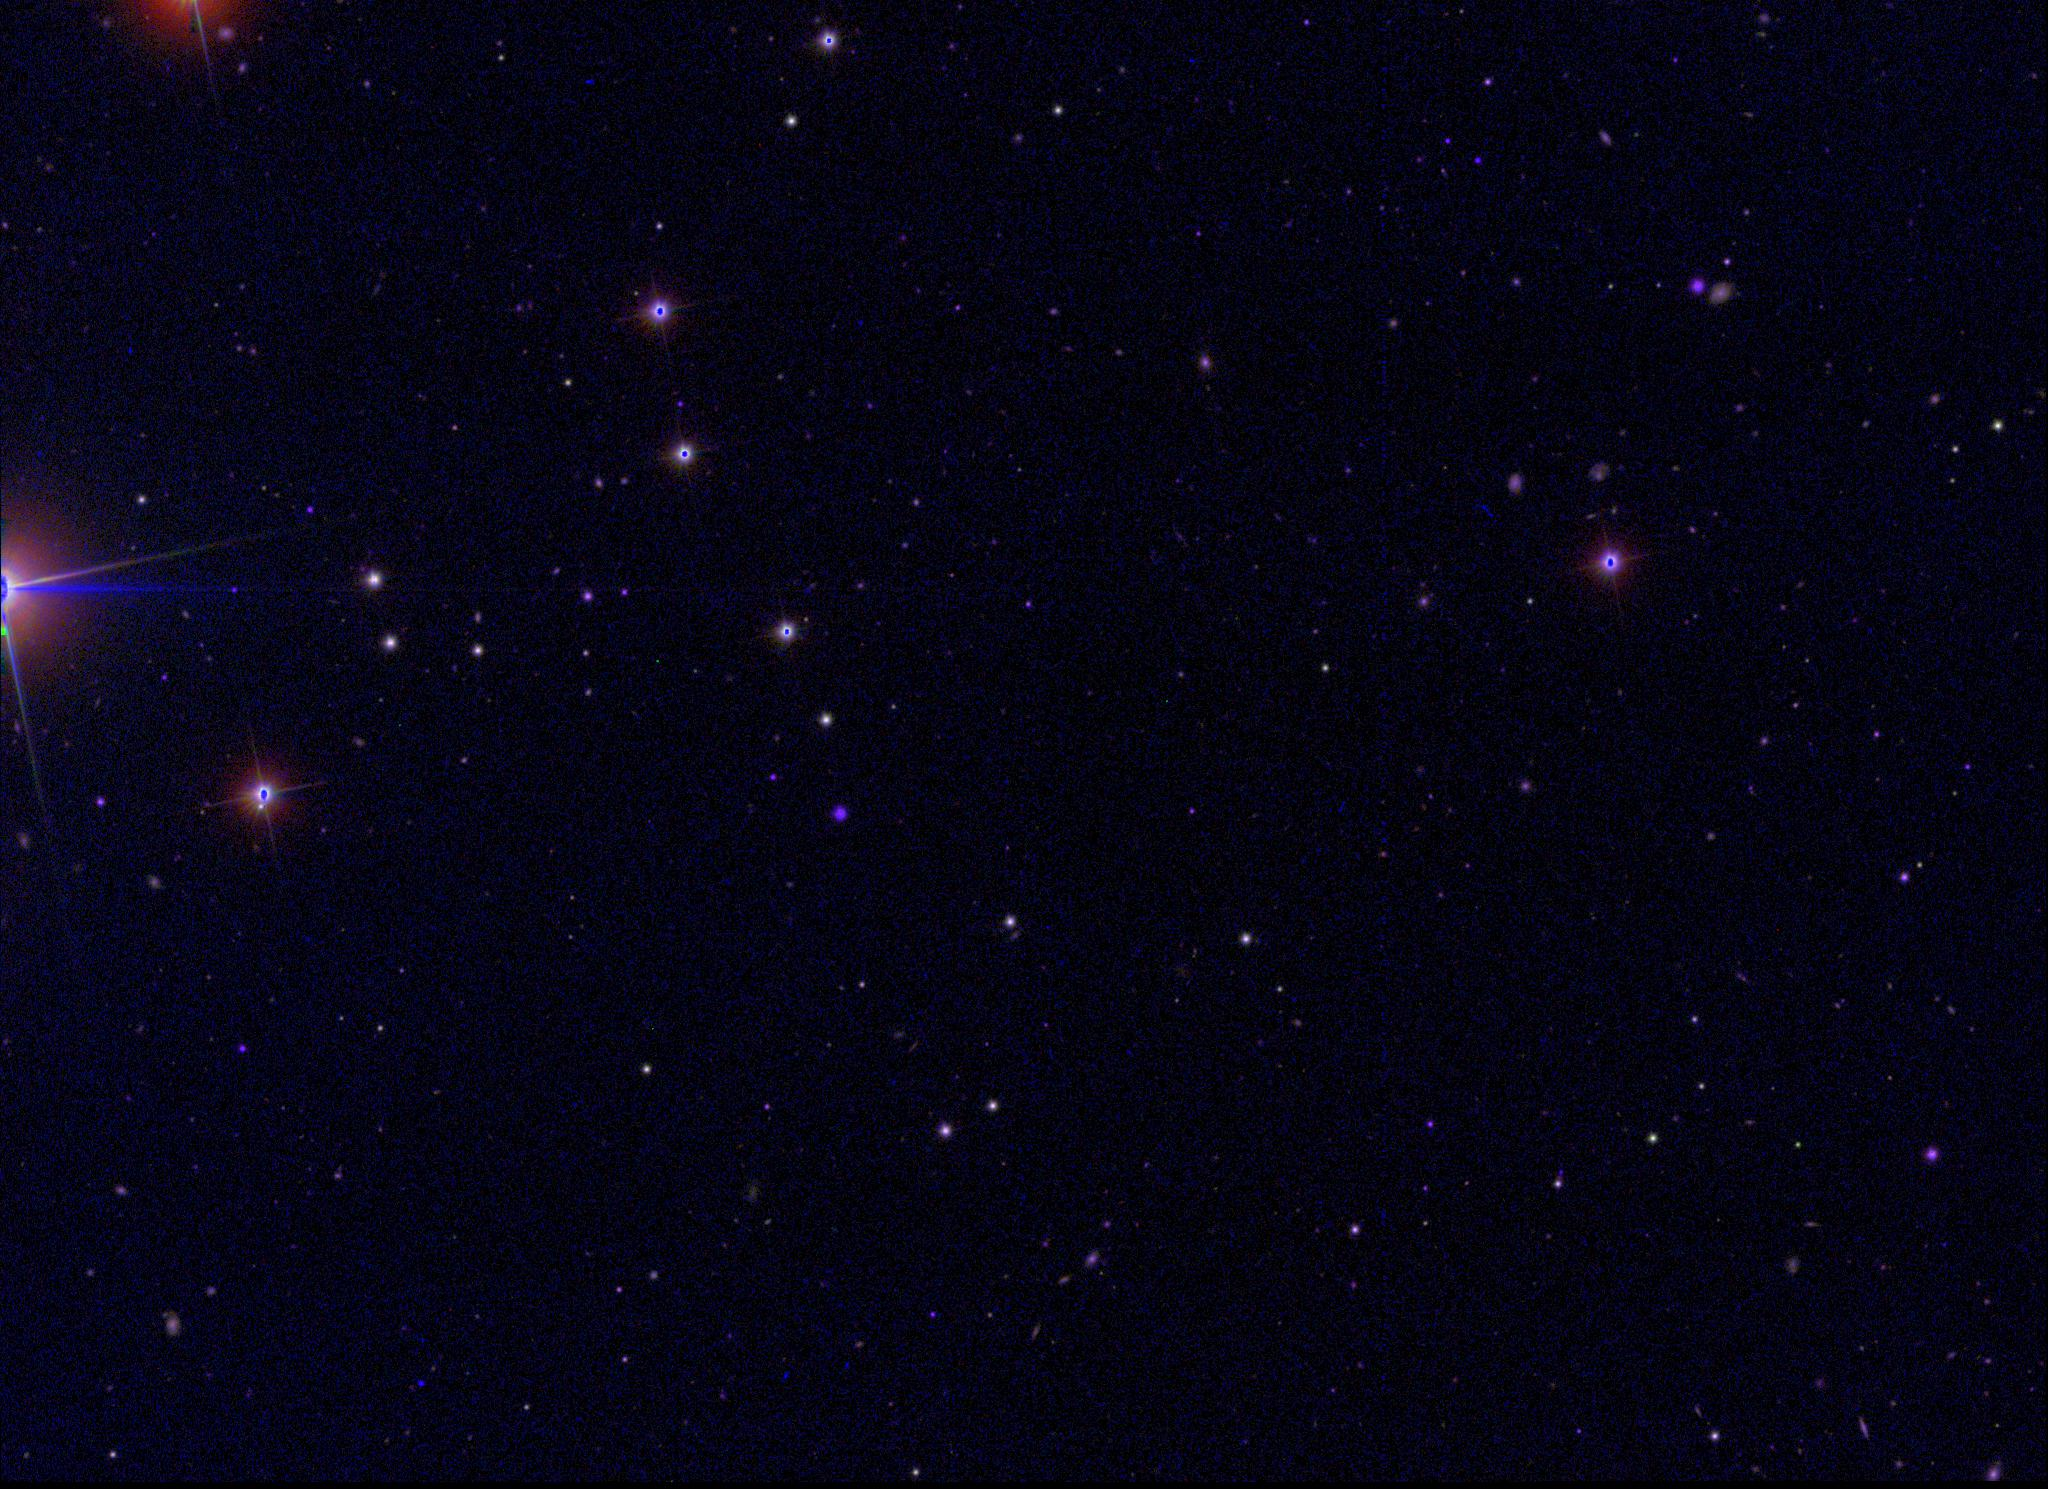L: (417, 1376, 429, 1390)
